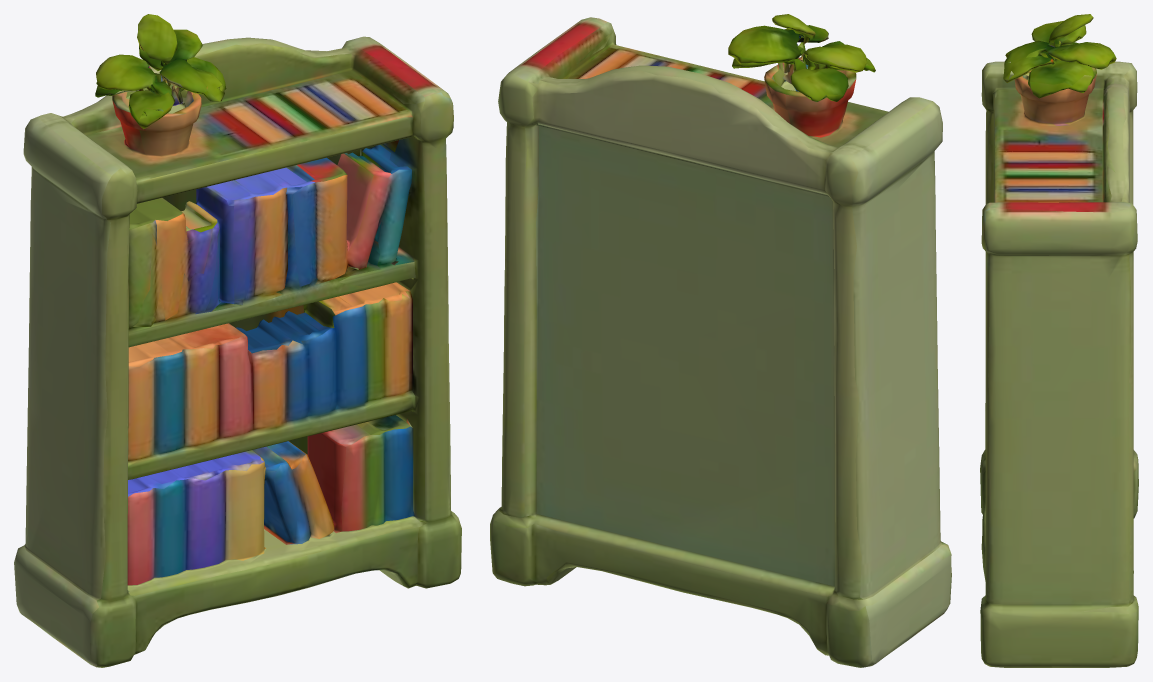
Rendered from bookshelf_nature.glb.
3 views of the same model, side by side, from view 1: azimuth 30°, elevation 25°; view 2: azimuth 150°, elevation 25°; view 3: azimuth 270°, elevation 25° (orthographic). The views are drawn at different scales.
Parts seen in each view (by area): view 1: textured_mesh.obj; view 2: textured_mesh.obj; view 3: textured_mesh.obj.
Boxes of the visible parts, left/top/right/bottom form: textured_mesh.obj: left=14, top=14, right=461, bottom=667; textured_mesh.obj: left=490, top=14, right=951, bottom=667; textured_mesh.obj: left=980, top=14, right=1138, bottom=667.
Size of what is drawn, in the model's own units: 1.19 by 1.8 by 0.4791.
1 material, 1 textured.
